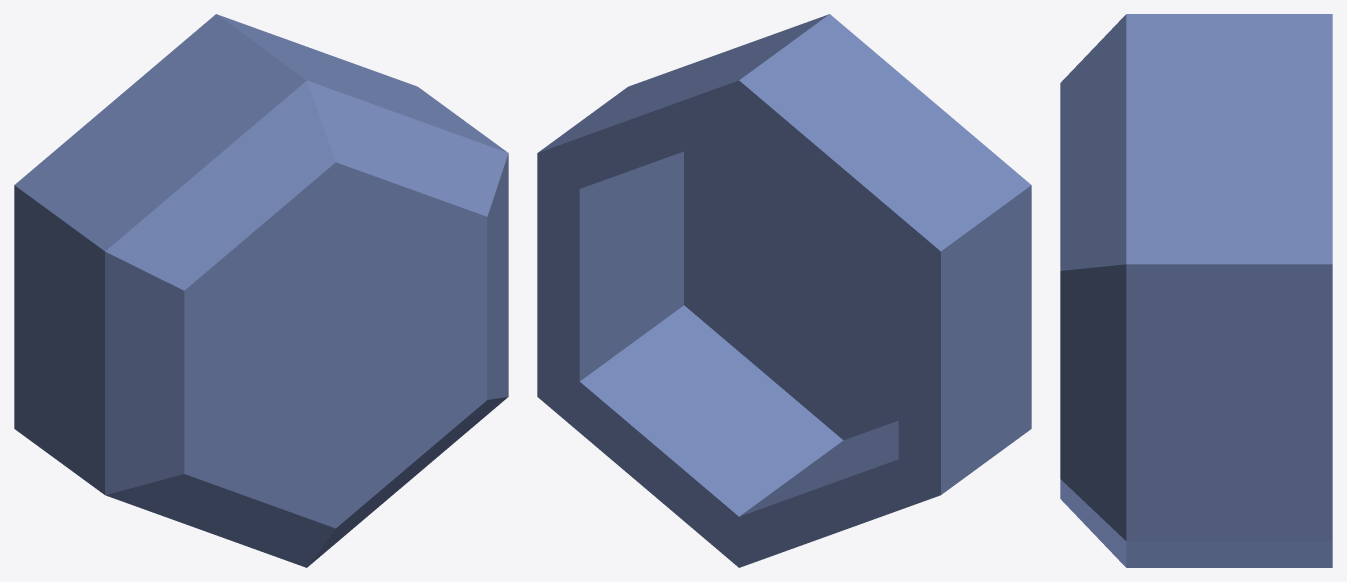
File: Stone.fbx
3 views of the same model, side by side, from view 1: azimuth 30°, elevation 25°; view 2: azimuth 150°, elevation 25°; view 3: azimuth 270°, elevation 25° (orthographic). The views are drawn at different scales.
Parts seen in each view (by area): view 1: Stone; view 2: Stone; view 3: Stone.
Boxes of the visible parts, left/top/right/bottom form: Stone: left=14, top=14, right=508, bottom=567; Stone: left=537, top=14, right=1031, bottom=567; Stone: left=1060, top=14, right=1332, bottom=567.
Size of the model in its own units: 23.62 by 27.27 by 12.14.
